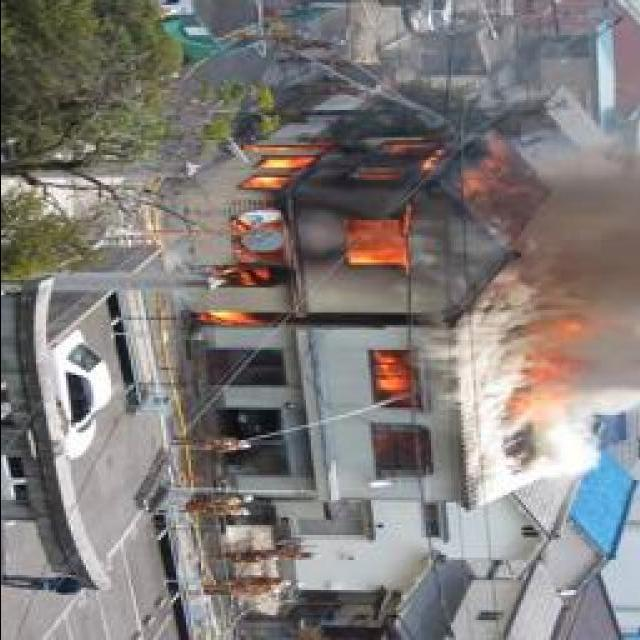Fire: (193, 133, 515, 327), (510, 326, 587, 432), (370, 354, 420, 412)
